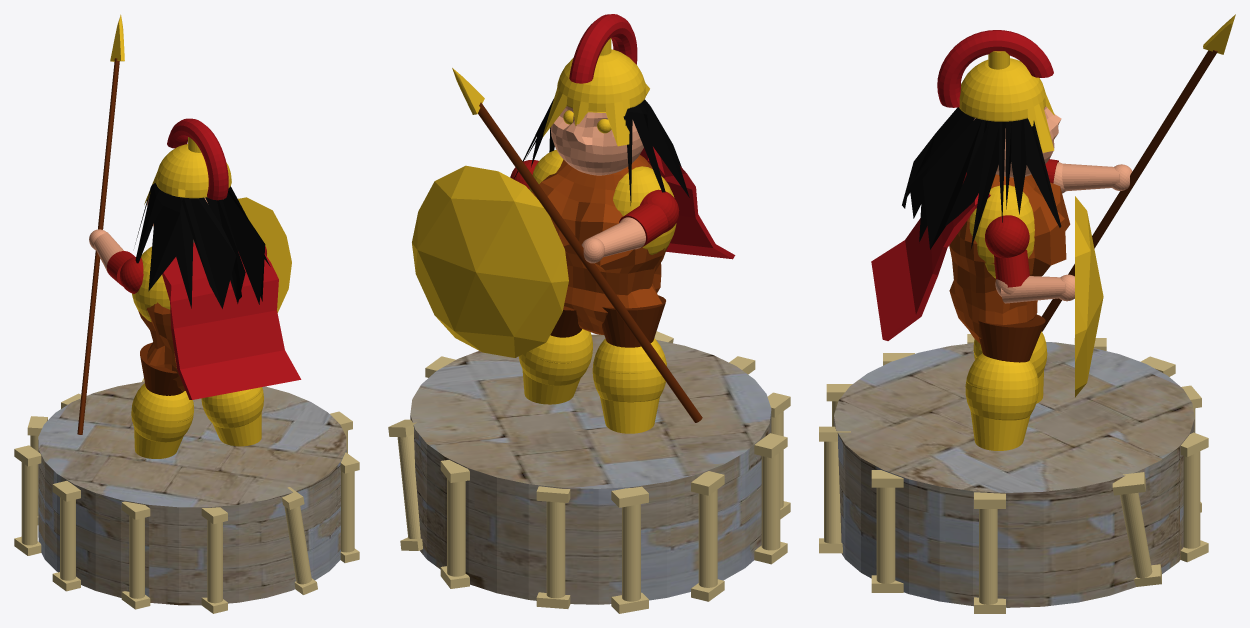
The model's file is atena.fbx.
3 views of the same model, side by side, from view 1: azimuth 30°, elevation 25°; view 2: azimuth 150°, elevation 25°; view 3: azimuth 270°, elevation 25° (orthographic). The views are drawn at different scales.
Parts seen in each view (by area): view 1: Cylinder, Cube.003, Cube, Grid.003, Cylinder.024, Cone.001, Sphere.043, Torus.003, Cylinder.022, Sphere.034, Sphere.036, Cylinder.028 (+2 smaller); view 2: Cylinder, Cone.001, Cube, Sphere.034, Cylinder.024, Sphere.038, Sphere.043, Cylinder.022, Grid.003, Cube.003, Torus.003, Sphere.036 (+2 smaller); view 3: Cylinder, Cube, Grid.003, Sphere.034, Cylinder.024, Cube.003, Sphere.043, Cone.001, Sphere.038, Torus.003, Cylinder.028, Cylinder.022 (+2 smaller).
Boxes of the visible parts, x1=… form: Cylinder: x1=38, y1=381, x2=346, y2=605; Cube.003: x1=162, y1=242, x2=301, y2=399; Cube: x1=14, y1=378, x2=359, y2=613; Grid.003: x1=135, y1=183, x2=270, y2=308; Cylinder.024: x1=131, y1=383, x2=263, y2=458; Cone.001: x1=110, y1=14, x2=291, y2=312; Sphere.043: x1=144, y1=137, x2=231, y2=204; Torus.003: x1=167, y1=118, x2=228, y2=200; Cylinder.022: x1=77, y1=58, x2=119, y2=434; Sphere.034: x1=138, y1=302, x2=185, y2=391; Sphere.036: x1=132, y1=246, x2=170, y2=321; Cylinder.028: x1=106, y1=246, x2=266, y2=293; Cylinder: x1=410, y1=334, x2=771, y2=604; Cone.001: x1=412, y1=68, x2=568, y2=357; Cube: x1=388, y1=331, x2=790, y2=613; Sphere.034: x1=531, y1=155, x2=675, y2=334; Cylinder.024: x1=518, y1=329, x2=666, y2=433; Sphere.038: x1=550, y1=106, x2=645, y2=263; Sphere.043: x1=542, y1=38, x2=649, y2=146; Cylinder.022: x1=478, y1=102, x2=702, y2=422; Grid.003: x1=513, y1=99, x2=689, y2=205; Cube.003: x1=640, y1=147, x2=735, y2=259; Torus.003: x1=569, y1=14, x2=637, y2=83; Sphere.036: x1=529, y1=149, x2=676, y2=254; Cylinder: x1=834, y1=342, x2=1194, y2=607; Cube: x1=819, y1=334, x2=1208, y2=613; Grid.003: x1=902, y1=107, x2=1061, y2=249; Sphere.034: x1=949, y1=174, x2=1070, y2=343; Cylinder.024: x1=965, y1=331, x2=1047, y2=450; Cube.003: x1=871, y1=172, x2=990, y2=340; Sphere.043: x1=959, y1=51, x2=1054, y2=152; Cone.001: x1=1075, y1=14, x2=1235, y2=397; Sphere.038: x1=973, y1=106, x2=1132, y2=303; Torus.003: x1=937, y1=30, x2=1053, y2=107; Cylinder.028: x1=985, y1=159, x2=1058, y2=287; Cylinder.022: x1=1041, y1=50, x2=1217, y2=331.
Bounding box in the file's own units: 150 × 225 × 160.
